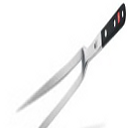Fork: (17, 8, 128, 128)
